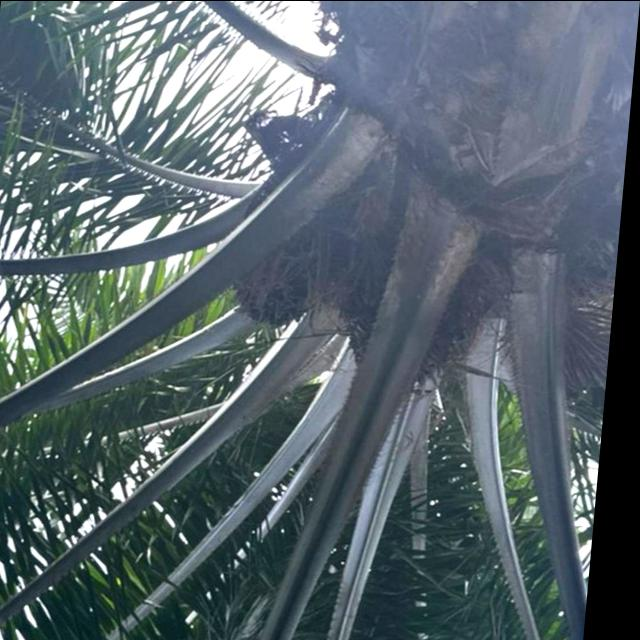unripe: (229, 198, 364, 330)
